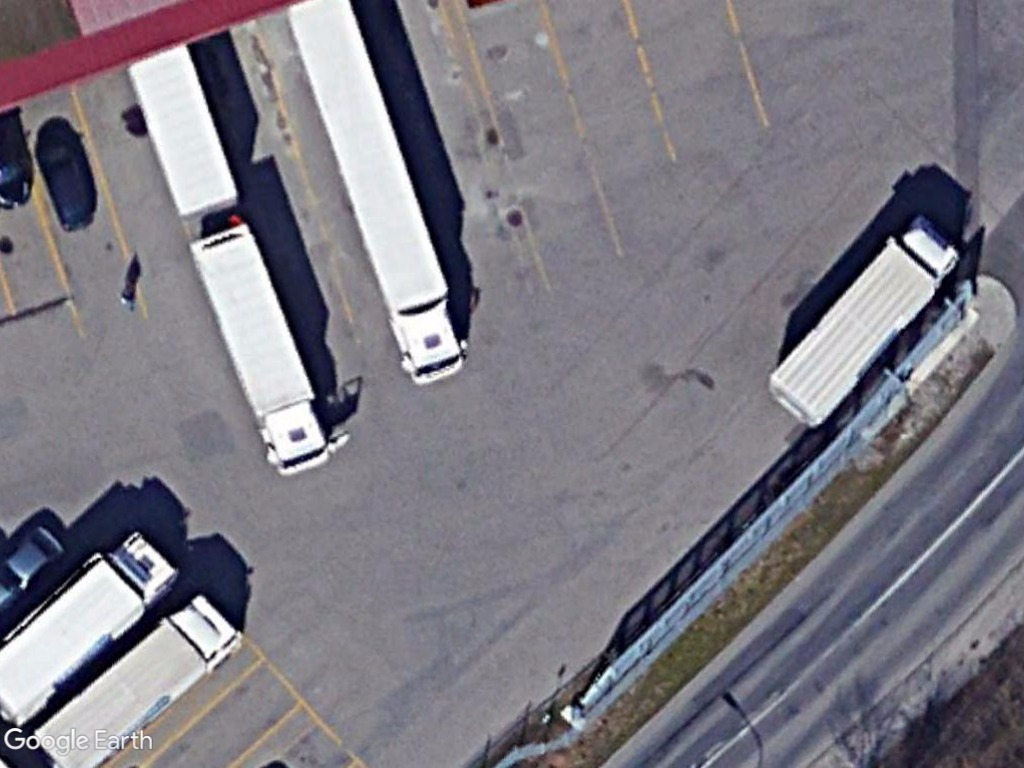longvehicle: (289, 1, 468, 385)
truck: (765, 218, 968, 430), (189, 221, 333, 476), (31, 601, 246, 768), (0, 537, 183, 726)
